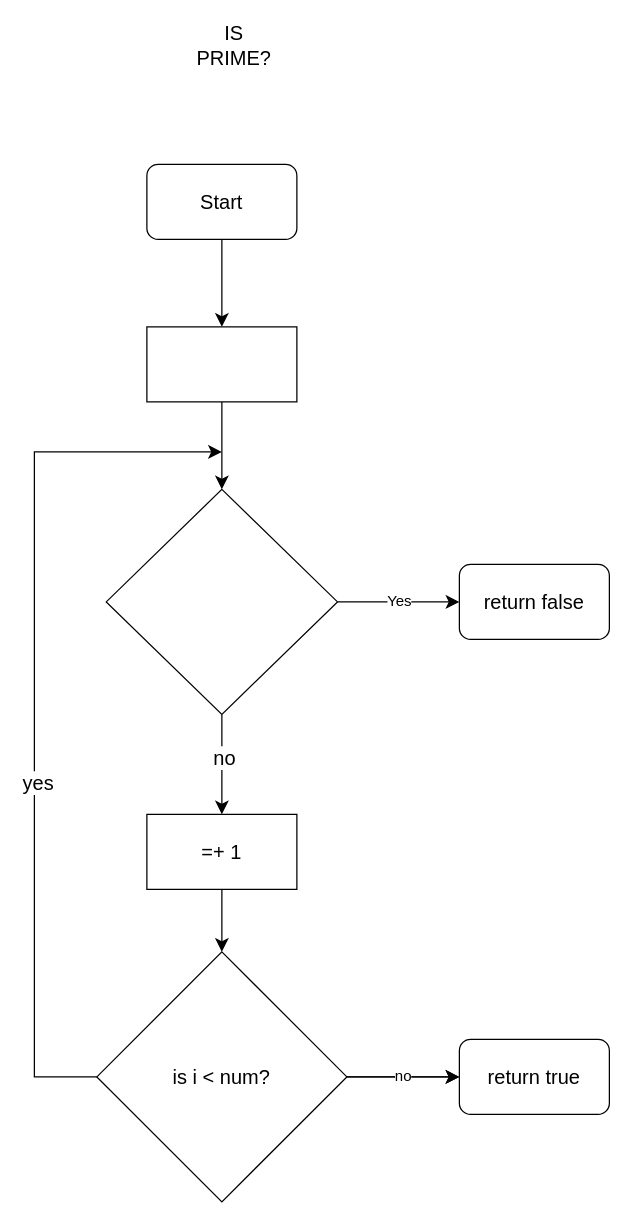
The diagram is 631 pixels wide and 1224 high, and some of its shapes have lost their labels. The centre of each missing label's shape, as x and y in pixels:
i = 2: the point at 221,364
is num divisible by i?: the point at 221,601
